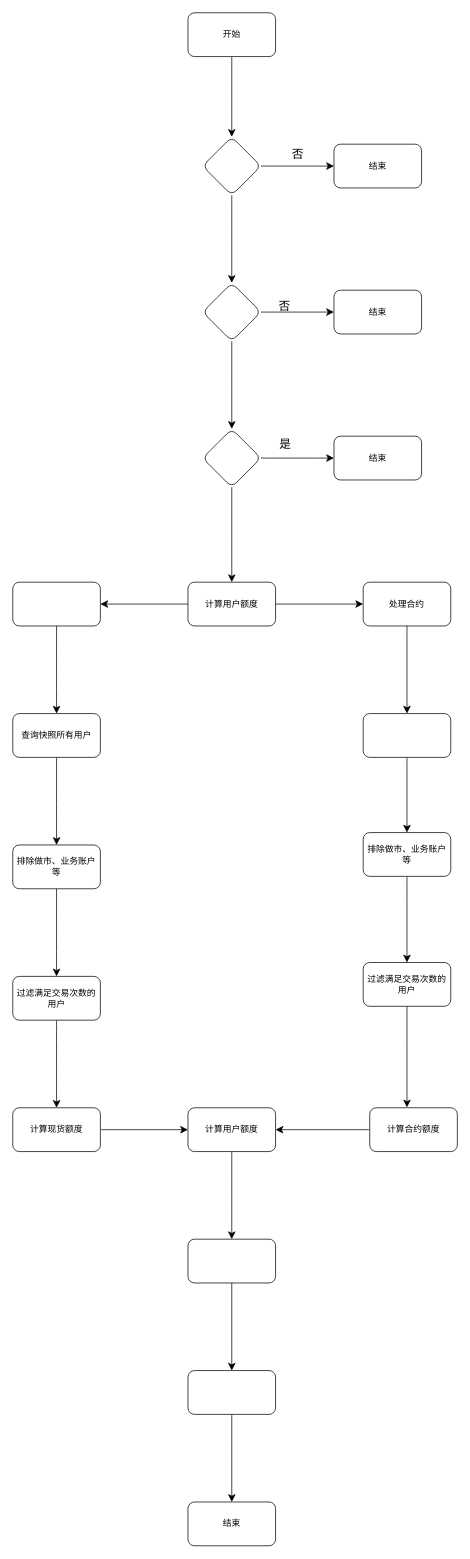
The diagram is 470 pixels wide and 1559 high, and some of its shapes have lost their labels. The shapes that lost their labels are listed below. From the top down, each one's centre as x and y in pixels, then its label:
pixel 231 165: 项目是否上架
pixel 231 311: 是否到额度计算时间
pixel 231 457: 判断项目额度是否执行
pixel 56 603: 处理现货
pixel 406 735: 查询快照期用户
pixel 231 1260: 计算全局额度
pixel 231 1392: 计算用户申领量
